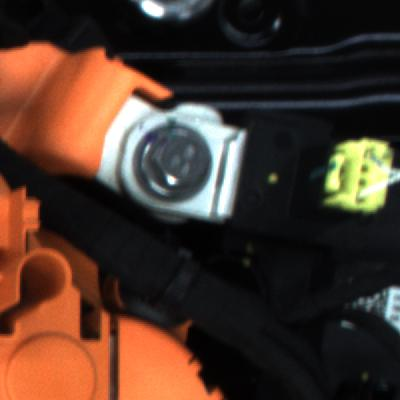nut_b: (130, 120, 217, 207)
